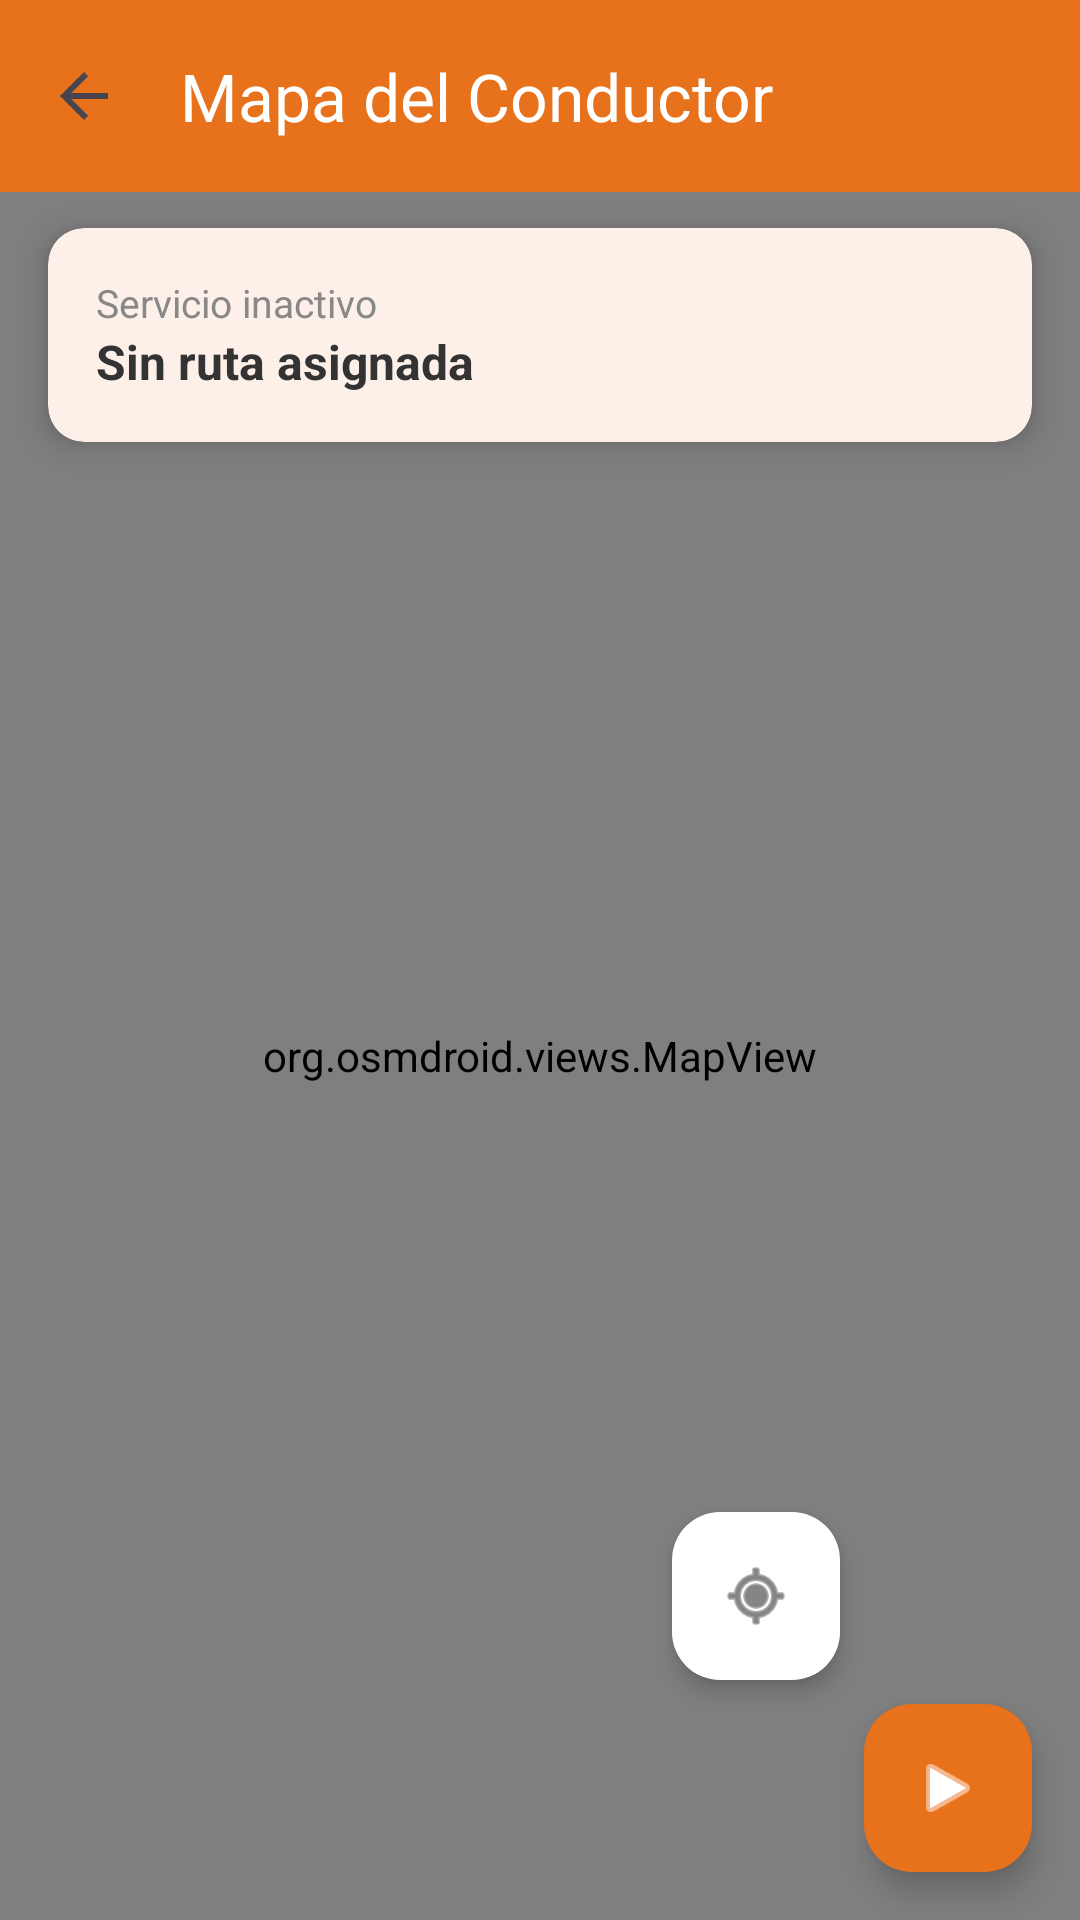

Locate icon controls on the screen. Image size 1080x1920, boxes as (x1, y1, x2, y2).
Iniciar ruta: (864, 1704, 1032, 1872)
Mi ubicación: (672, 1512, 840, 1680)
